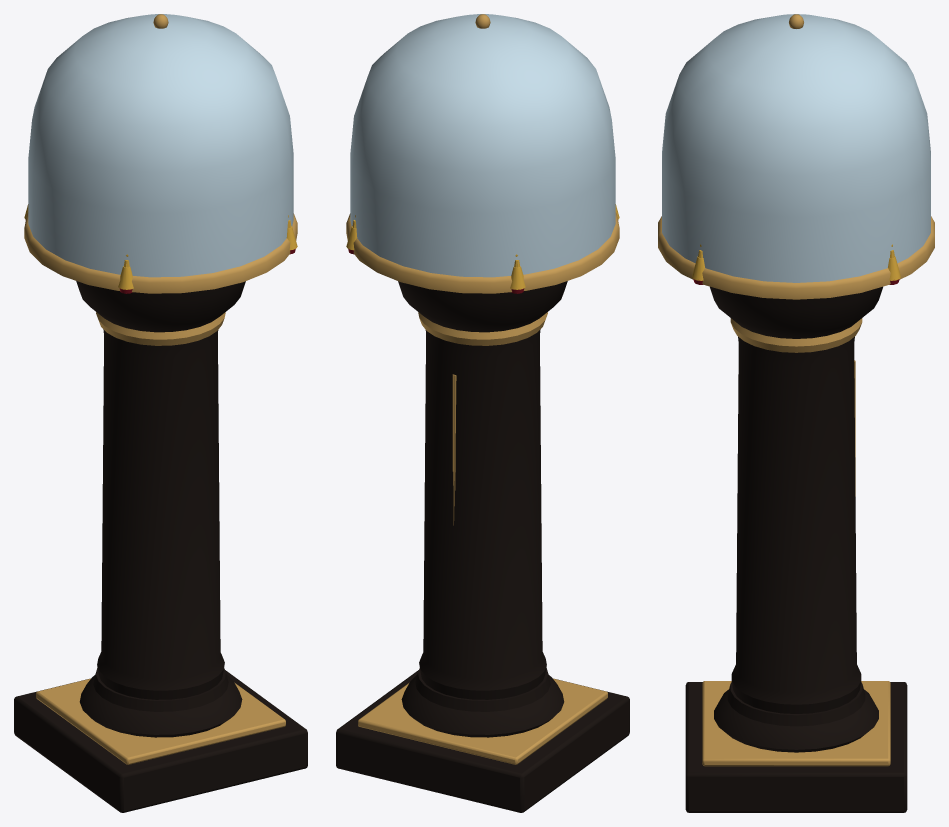
Rendered from crown.glb.
The picture shows the model from 3 angles, left to right: view 1: azimuth 30°, elevation 25°; view 2: azimuth 150°, elevation 25°; view 3: azimuth 270°, elevation 25°; orthographic projection. The views are drawn at different scales.
Parts seen in each view (by area): view 1: crown_lacquer, crown_glass_dome, crown_brass, crown_gold; view 2: crown_lacquer, crown_glass_dome, crown_brass, crown_gold; view 3: crown_lacquer, crown_glass_dome, crown_brass, crown_gold.
Part boxes in pixels (x1,y1,x2,y2): crown_lacquer: (14,281,307,812); crown_glass_dome: (28,14,293,277); crown_brass: (24,14,297,764); crown_gold: (24,204,297,289); crown_lacquer: (336,281,629,812); crown_glass_dome: (350,14,615,277); crown_brass: (346,14,619,764); crown_gold: (346,204,619,289); crown_lacquer: (685,286,907,812); crown_glass_dome: (662,14,930,282); crown_brass: (658,14,934,766); crown_gold: (692,244,900,280).
Bounding box in the file's own units: 0.5039 × 1.5 × 0.5003.
